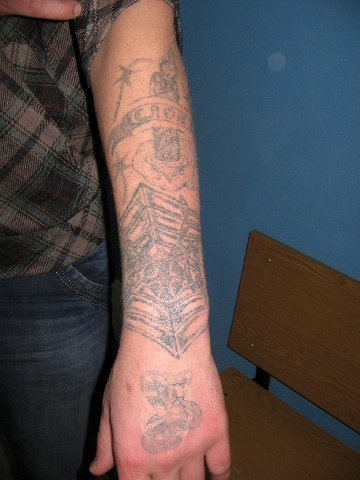tatu3_bukva: (120, 96, 206, 132)
tatu7_zmeya: (129, 366, 211, 454)
